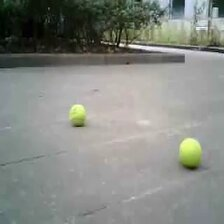tennis: (177, 138, 201, 165), (69, 104, 84, 124)
